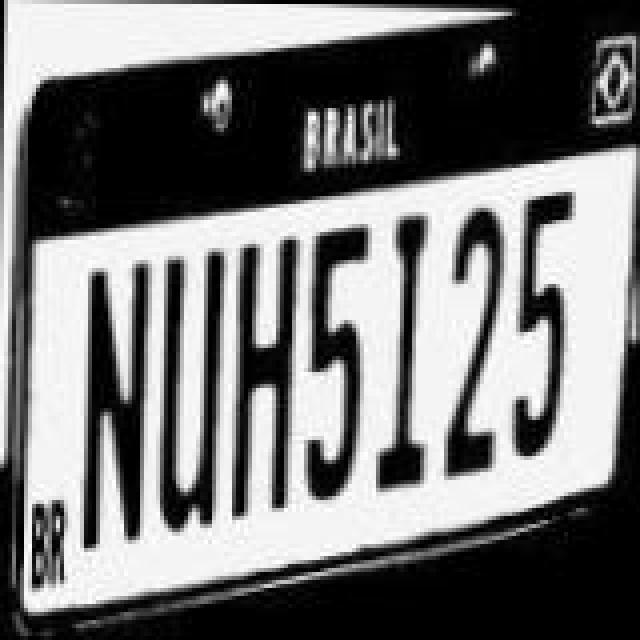2: (440, 182, 516, 466)
5: (306, 202, 378, 486), (516, 172, 584, 440)
H: (232, 220, 308, 508)
I: (376, 190, 444, 478)
N: (82, 248, 158, 556)
U: (154, 230, 230, 530)
